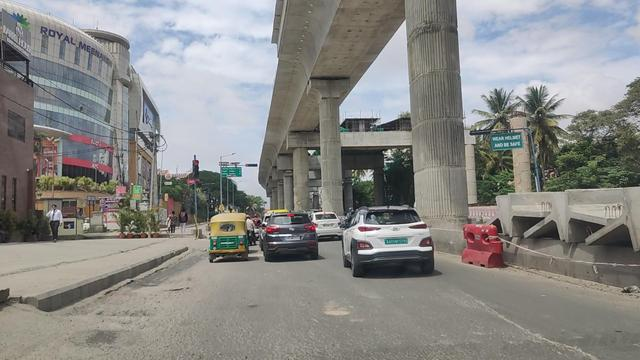LMV: (341, 206, 427, 277), (262, 212, 317, 264), (212, 211, 248, 254)
RoadDamages: (480, 287, 550, 331)
